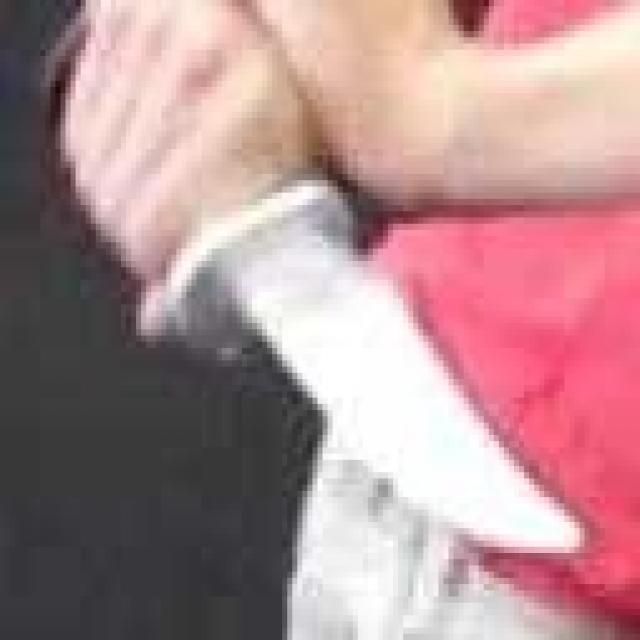knife: (36, 29, 604, 542)
